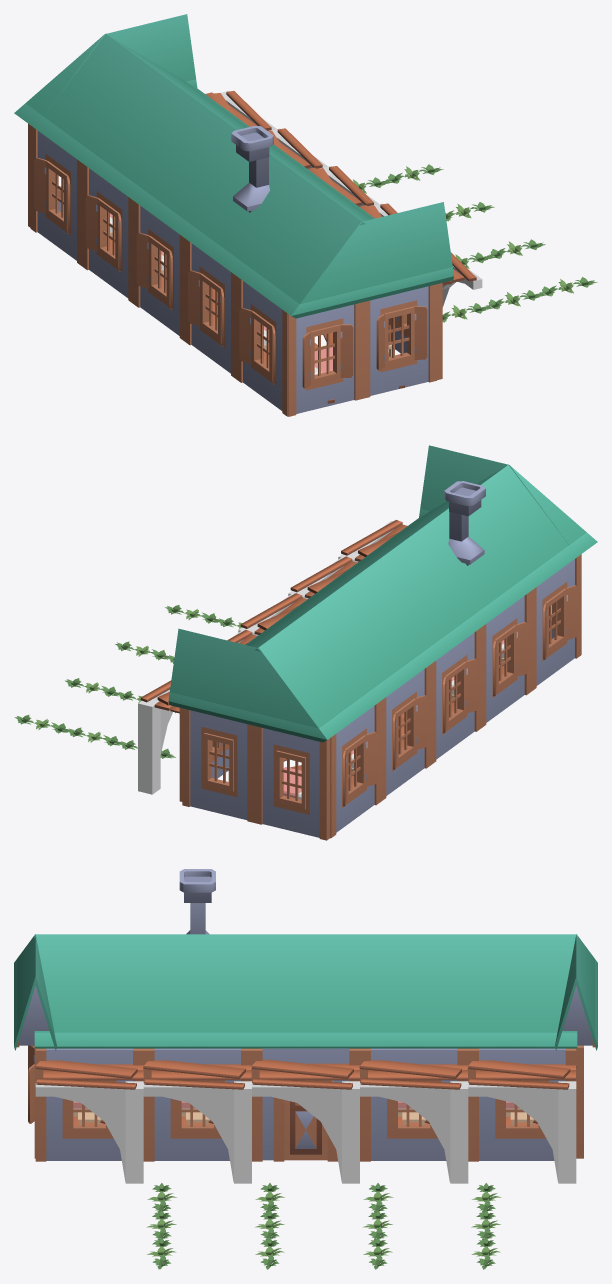
Rendered from london_bld_infirmary.glb.
3 renders of one model, top to bottom at view 1: azimuth 30°, elevation 25°; view 2: azimuth 150°, elevation 25°; view 3: azimuth 270°, elevation 25°, orthographic. The views are drawn at different scales.
Visible parts, largest first — view 1: wall-window-shutters (×8), roof-gable (×5), roof-gable-end (×2), platform-planks (×3), chimney-base, chimney-top; view 2: wall-window-shutters (×8), roof-gable (×5), roof-gable-end (×2), platform-planks (×4), Grey_Arch_01, chimney-base, chimney-top; view 3: roof-gable (×5), wall-window-shutters (×6), Grey_Arch_01 (×5), platform-planks (×5), roof-gable-end (×2), wall-door, door, chimney-top, chimney-base.
Boxes of the visible parts, x1=… form: wall-window-shutters (×8): x1=30, y1=126, x2=442, y2=416; roof-gable (×5): x1=35, y1=33, x2=374, y2=300; roof-gable-end (×2): x1=14, y1=14, x2=453, y2=318; platform-planks (×3): x1=205, y1=91, x2=373, y2=205; chimney-base: x1=233, y1=157, x2=269, y2=212; chimney-top: x1=231, y1=126, x2=273, y2=161; wall-window-shutters (×8): x1=179, y1=554, x2=581, y2=840; roof-gable (×5): x1=246, y1=464, x2=577, y2=725; roof-gable-end (×2): x1=168, y1=445, x2=597, y2=742; platform-planks (×4): x1=140, y1=520, x2=407, y2=713; Grey_Arch_01: x1=138, y1=689, x2=172, y2=794; chimney-base: x1=448, y1=511, x2=484, y2=565; chimney-top: x1=444, y1=481, x2=485, y2=516; roof-gable (×5): x1=34, y1=934, x2=577, y2=1048; wall-window-shutters (×6): x1=28, y1=1045, x2=583, y2=1161; Grey_Arch_01 (×5): x1=35, y1=1081, x2=576, y2=1183; platform-planks (×5): x1=35, y1=1059, x2=576, y2=1089; roof-gable-end (×2): x1=14, y1=934, x2=597, y2=1050; wall-door: x1=252, y1=1048, x2=359, y2=1161; door: x1=284, y1=1080, x2=327, y2=1160; chimney-top: x1=179, y1=869, x2=215, y2=902; chimney-base: x1=186, y1=903, x2=209, y2=934.
Bounding box in the file's own units: 12.68 × 6.95 × 16.2.
Materials: 17 (7 with a texture image).
